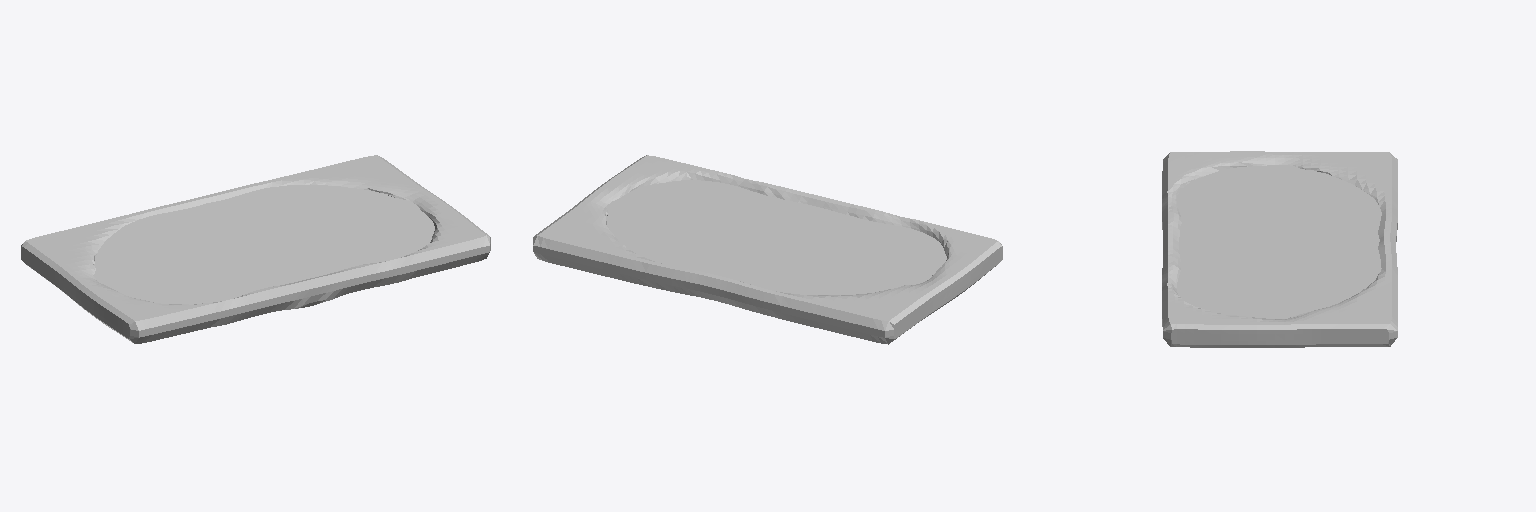
File: pond.obj
The picture shows the model from 3 angles: view 1: azimuth 30°, elevation 25°; view 2: azimuth 150°, elevation 25°; view 3: azimuth 270°, elevation 25°; orthographic projection.
Parts seen in each view (by area): view 1: Plane_Plane.001, Box; view 2: Plane_Plane.001, Box; view 3: Plane_Plane.001, Box.
Part boxes in pixels (x1,y1,x2,y2): Plane_Plane.001: (94, 184, 434, 304); Box: (21, 155, 490, 343); Plane_Plane.001: (606, 180, 946, 294); Box: (533, 155, 1002, 344); Plane_Plane.001: (1176, 165, 1381, 318); Box: (1162, 151, 1397, 347).
Bounding box in the file's own units: 1932 × 194 × 1081.